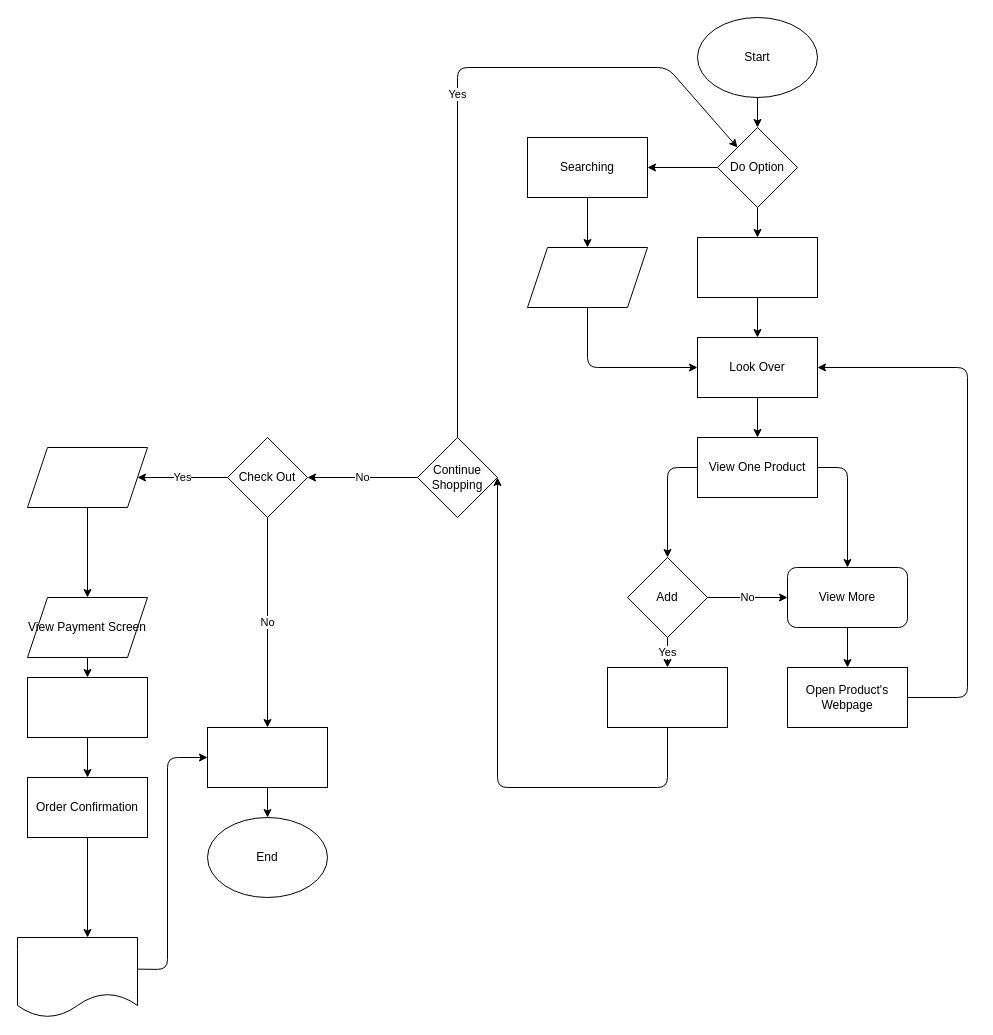
Some shapes in this 993 by 1035 pixel diagram are drawn without their labels. Each missing label, with the centre of its shape:
"Exploring" goes at [757,267].
"Input" goes at [587,277].
"Leave The Website" goes at [267,757].
"Pay" goes at [87,707].
"Send Email" goes at [77,977].
"View Cart Screen" goes at [87,477].
